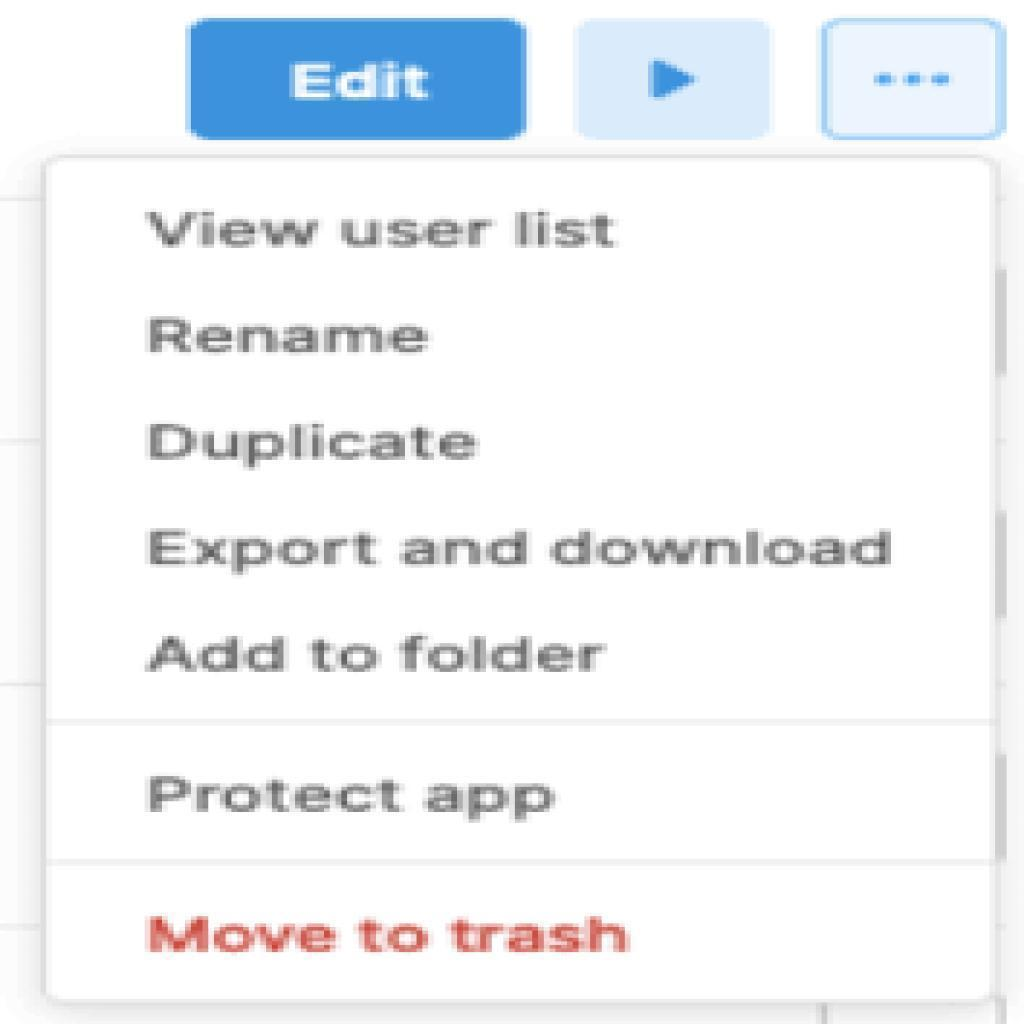button: (46, 724, 995, 862), (186, 17, 528, 141)
icon: (630, 49, 710, 108), (869, 53, 957, 102)
label: (133, 517, 907, 578), (134, 623, 623, 684), (143, 903, 631, 964), (133, 203, 625, 255), (137, 416, 486, 477), (137, 304, 439, 368)
